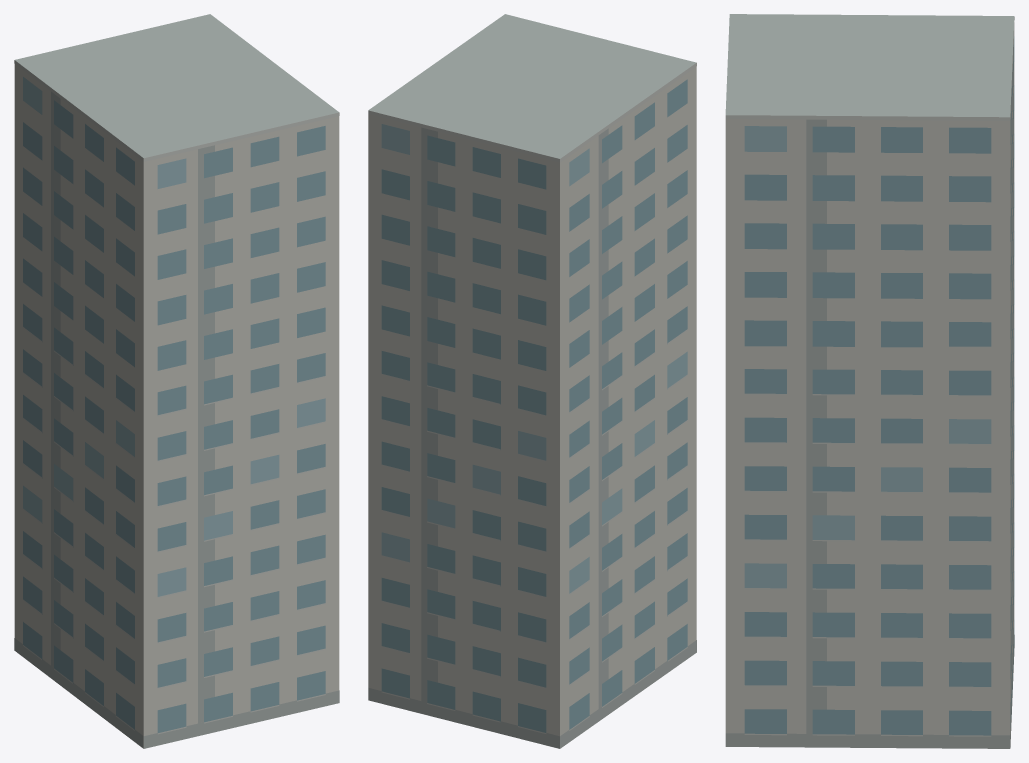
File: residential-4ab2dfc2-3ac1-4321-adba-9de5a3230c93.glb
The picture shows the model from 3 angles, left to right: view 1: azimuth 30°, elevation 25°; view 2: azimuth 150°, elevation 25°; view 3: azimuth 270°, elevation 25°; orthographic projection. The views are drawn at different scales.
Parts seen in each view (by area): view 1: residential-4ab2dfc2-3ac1-4321-adba-9de5a3230c93.tmp; view 2: residential-4ab2dfc2-3ac1-4321-adba-9de5a3230c93.tmp; view 3: residential-4ab2dfc2-3ac1-4321-adba-9de5a3230c93.tmp.
Boxes of the visible parts, bbox=[...] form: residential-4ab2dfc2-3ac1-4321-adba-9de5a3230c93.tmp: bbox=[14, 14, 339, 748]; residential-4ab2dfc2-3ac1-4321-adba-9de5a3230c93.tmp: bbox=[368, 14, 696, 748]; residential-4ab2dfc2-3ac1-4321-adba-9de5a3230c93.tmp: bbox=[725, 14, 1014, 748].
Size of the model in its own units: 14.03 by 40 by 16.59.
